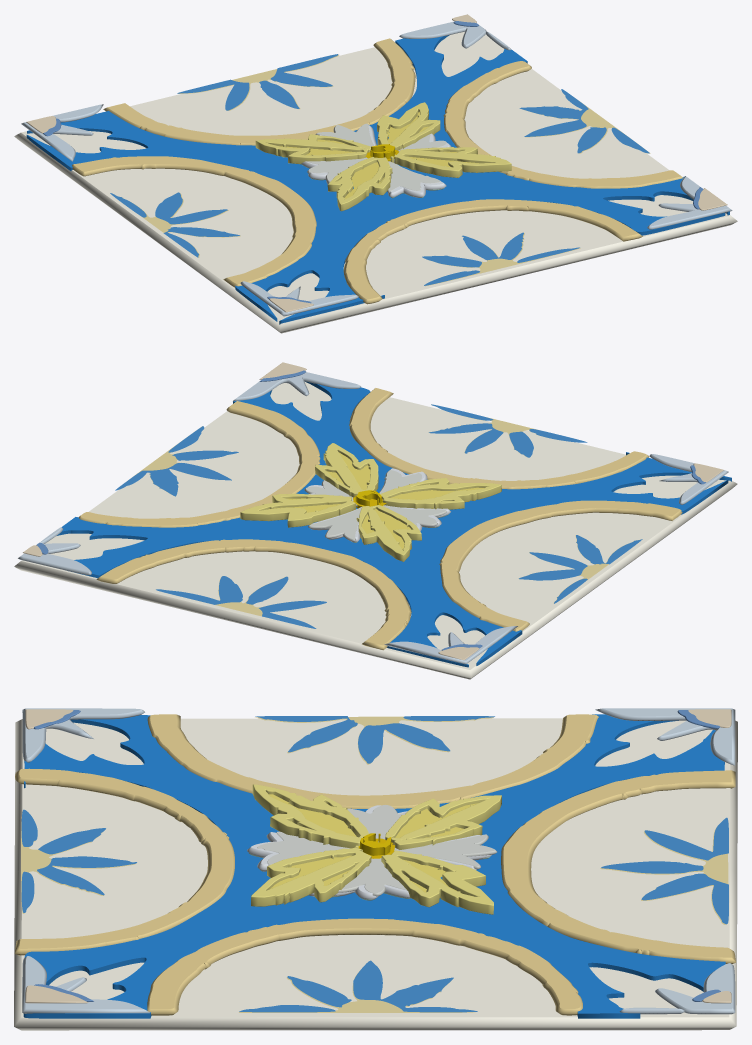
The picture shows the model from 3 angles, top to bottom: view 1: azimuth 30°, elevation 25°; view 2: azimuth 150°, elevation 25°; view 3: azimuth 270°, elevation 25°; orthographic projection. The views are drawn at different scales.
Visible parts, largest first — view 1: Azulejo, flor4, arco, flor, Curve.002, flor5, Curve.006, flor3, Curve.011, Curve.003, flor2; view 2: Azulejo, flor4, arco, flor, Curve.002, flor5, Curve.006, Curve.011, flor3, Curve.003, flor2; view 3: Azulejo, flor4, arco, flor, Curve.002, flor5, Curve.006, flor3, Curve.011, Curve.003, flor2, Curve.005 (+1 smaller).
Part boxes in pixels (<box>): Azulejo: <box>14,31,737,333</box>; flor4: <box>26,35,729,324</box>; arco: <box>72,38,683,304</box>; flor: <box>255,102,511,211</box>; Curve.002: <box>110,54,649,285</box>; flor5: <box>21,21,732,316</box>; Curve.006: <box>307,123,446,192</box>; flor3: <box>122,54,650,286</box>; Curve.011: <box>280,112,478,199</box>; Curve.003: <box>26,14,727,312</box>; flor2: <box>301,125,451,197</box>; Azulejo: <box>14,382,737,679</box>; flor4: <box>57,381,731,667</box>; arco: <box>79,388,682,650</box>; flor: <box>240,443,501,561</box>; Curve.002: <box>115,404,642,628</box>; flor5: <box>18,372,728,664</box>; Curve.006: <box>304,470,446,541</box>; Curve.011: <box>269,452,484,549</box>; flor3: <box>134,404,633,616</box>; Curve.003: <box>23,362,723,660</box>; flor2: <box>308,468,450,541</box>; Azulejo: <box>14,718,737,1030</box>; flor4: <box>23,714,725,1018</box>; arco: <box>14,714,735,1015</box>; flor: <box>251,784,501,914</box>; Curve.002: <box>21,716,728,1012</box>; flor5: <box>22,708,735,1014</box>; Curve.006: <box>257,805,497,896</box>; flor3: <box>21,716,728,1012</box>; Curve.011: <box>269,794,478,893</box>; Curve.003: <box>25,709,731,1003</box>; flor2: <box>247,805,491,899</box>; Curve.005: <box>33,710,720,1001</box>.
Bounding box in the file's own units: 1.98 × 0.1401 × 1.99.
